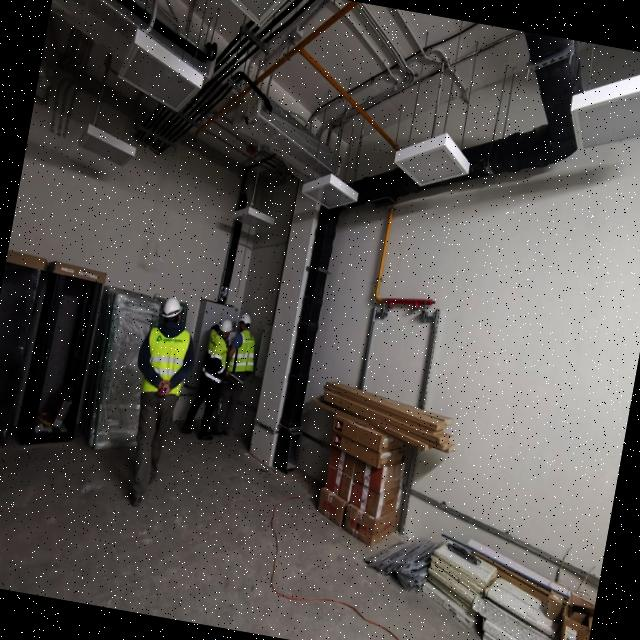Helmet: (161, 298, 187, 327), (237, 313, 254, 335), (218, 318, 235, 339)
